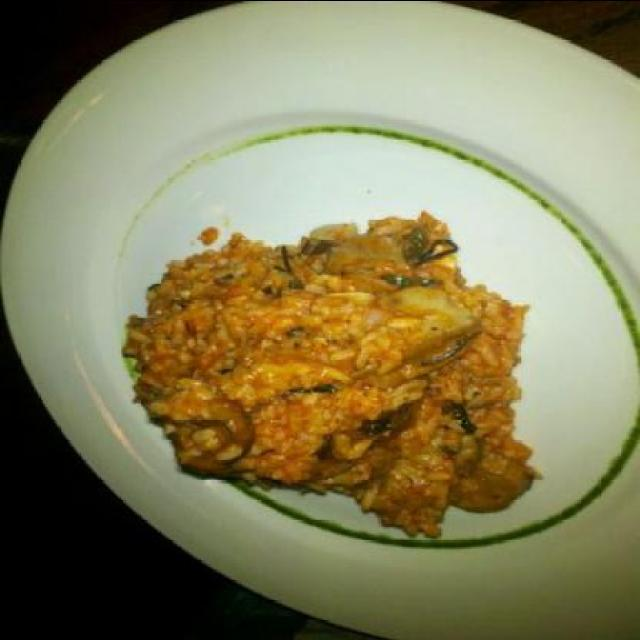Risotto: (124, 206, 538, 549)
